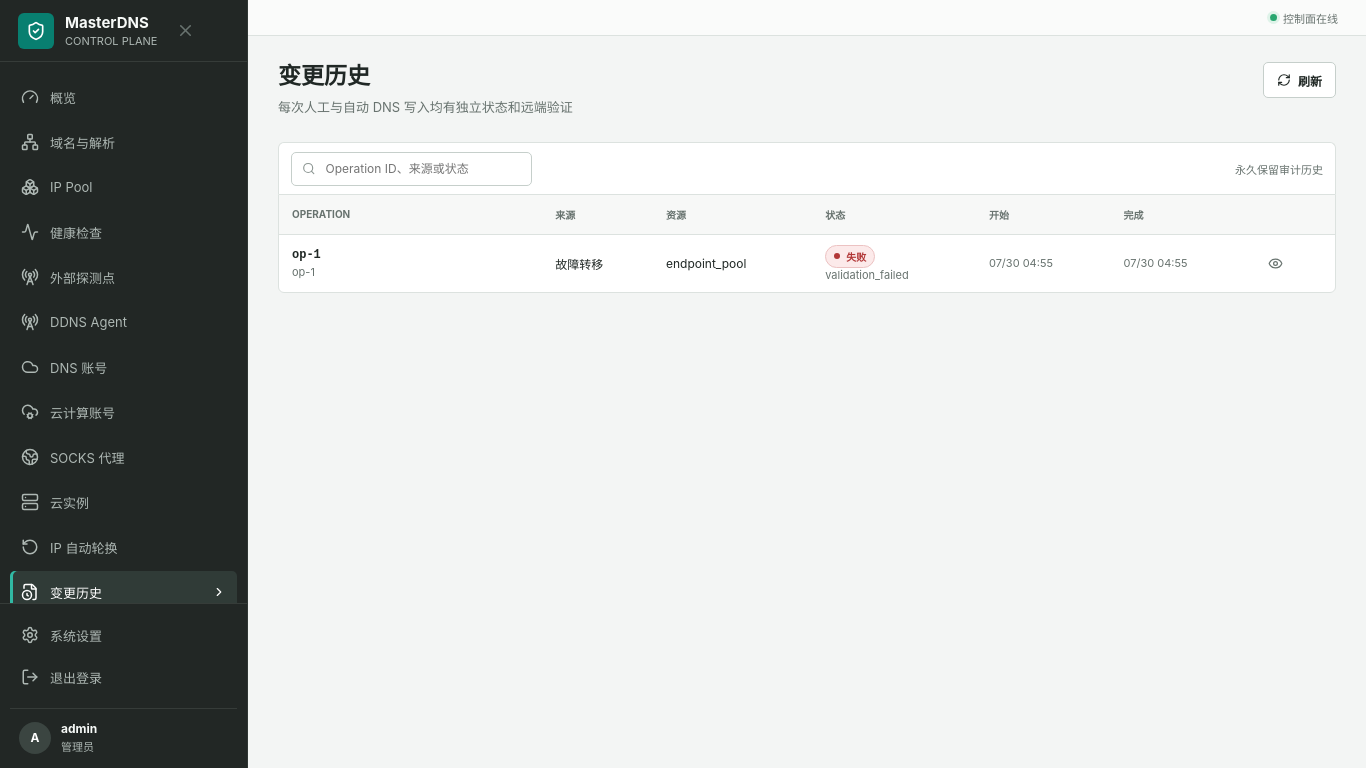
it: shows the stored failure detail when opening an operation: Cloud publication authorization or address changed
This screenshot has width=1366, height=768.
Click the button named "查看操作详情" at (1275, 263), box x1=1258 y1=246 x2=1292 y2=280
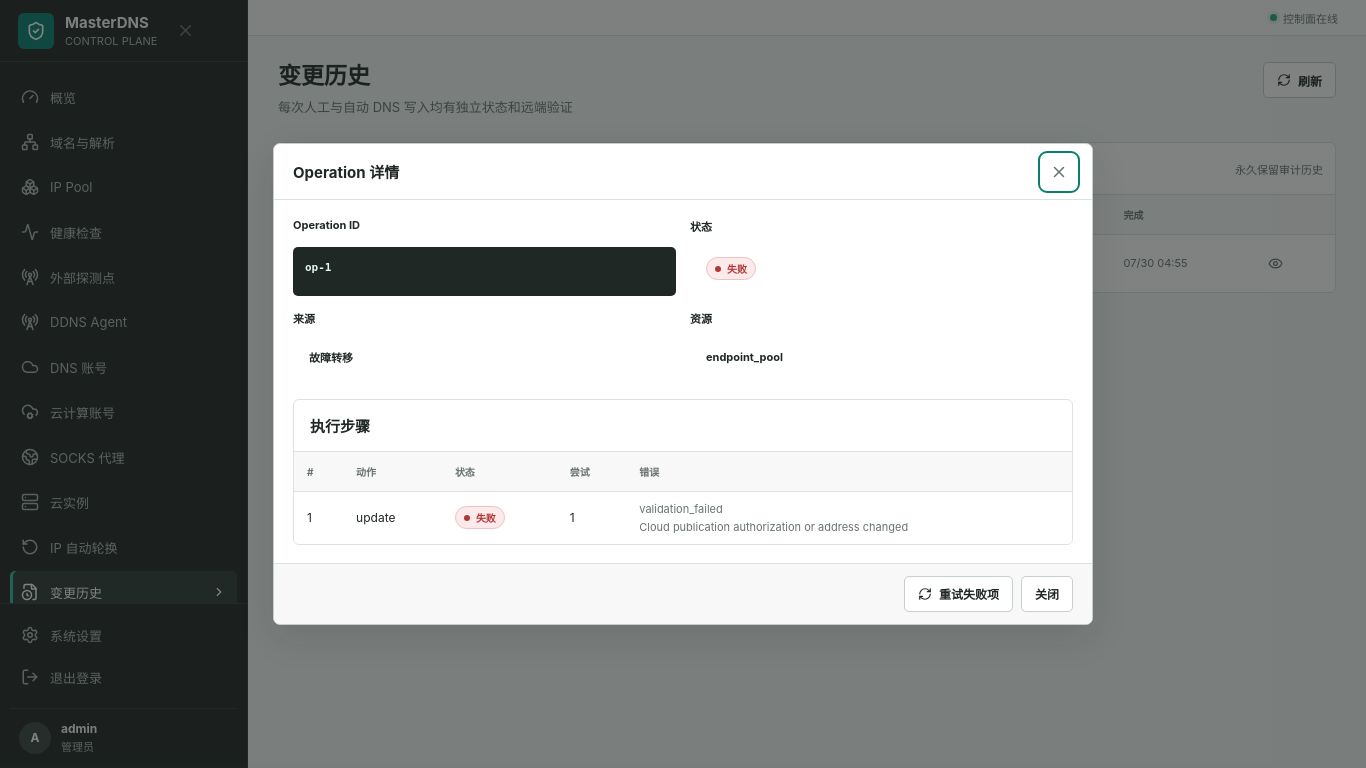
Expected: the dialog shows "validation_failed", x1=639 y1=502 x2=723 y2=516
Expected: the dialog shows "Cloud publication authorization or address changed", x1=639 y1=520 x2=908 y2=534
